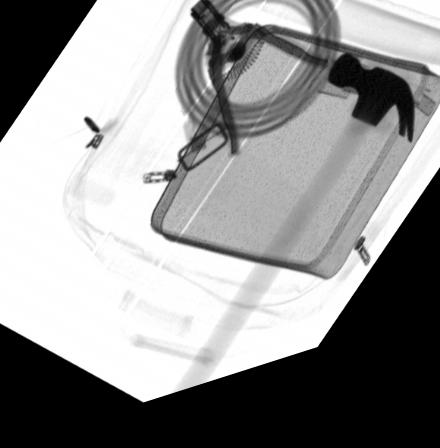Hammer: (171, 74, 414, 404)
Pliers: (185, 7, 327, 172)
